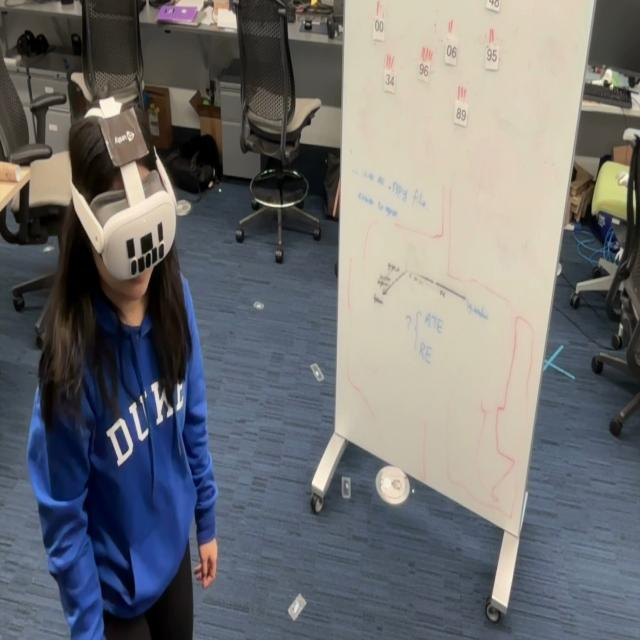Headset: (68, 107, 178, 282)
UnityLogo: (98, 104, 150, 170)
